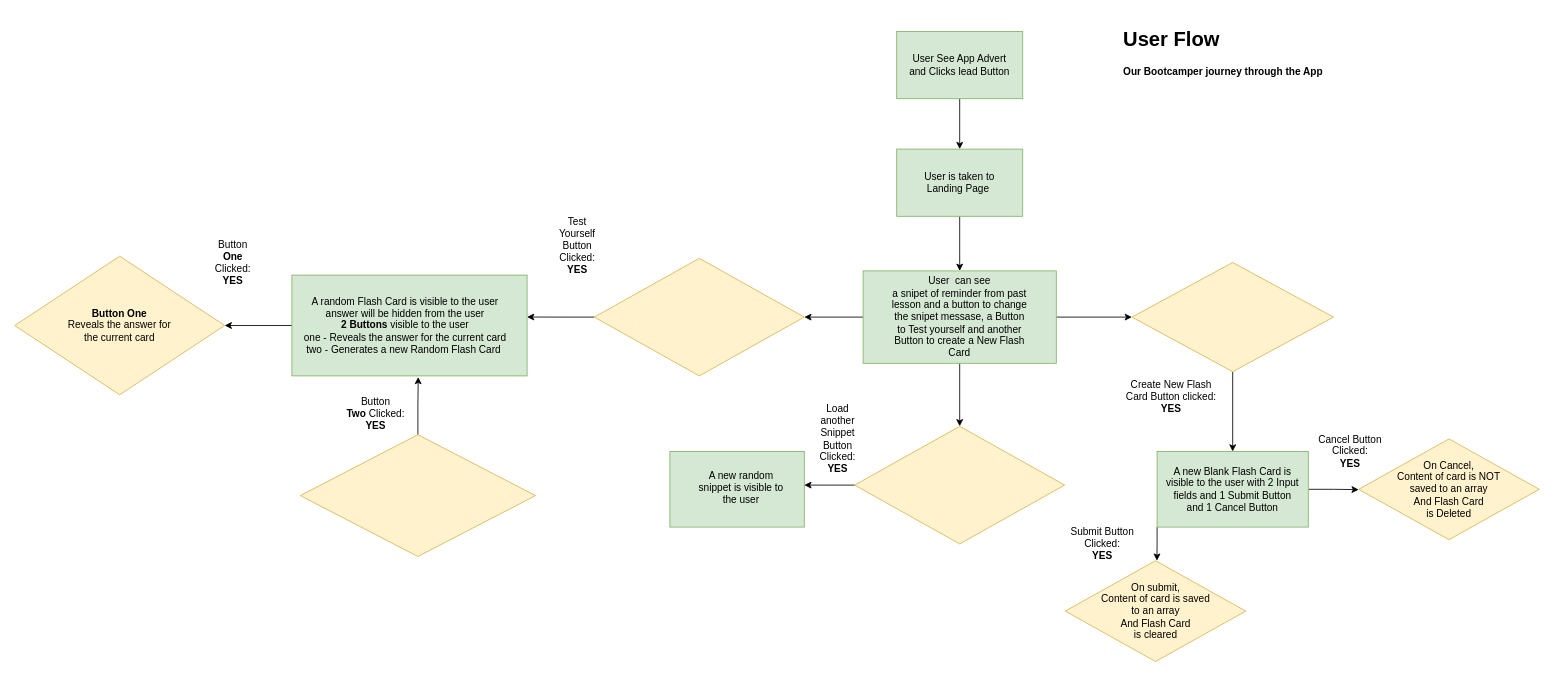
Image size: 1554x676. Some labels were removed from this diagram. Here are the shapes that lost their labels. From the top down, the centre of each, then its label:
At (698,316): "User clicks the Button to Test Yourself".
At (1232,317): "User clicks the Button to Create a New Flash Card".
At (417,495): "Button Two Generates a new Random Flash Card".
At (959,484): "User clicks the Button to load another snippet".
